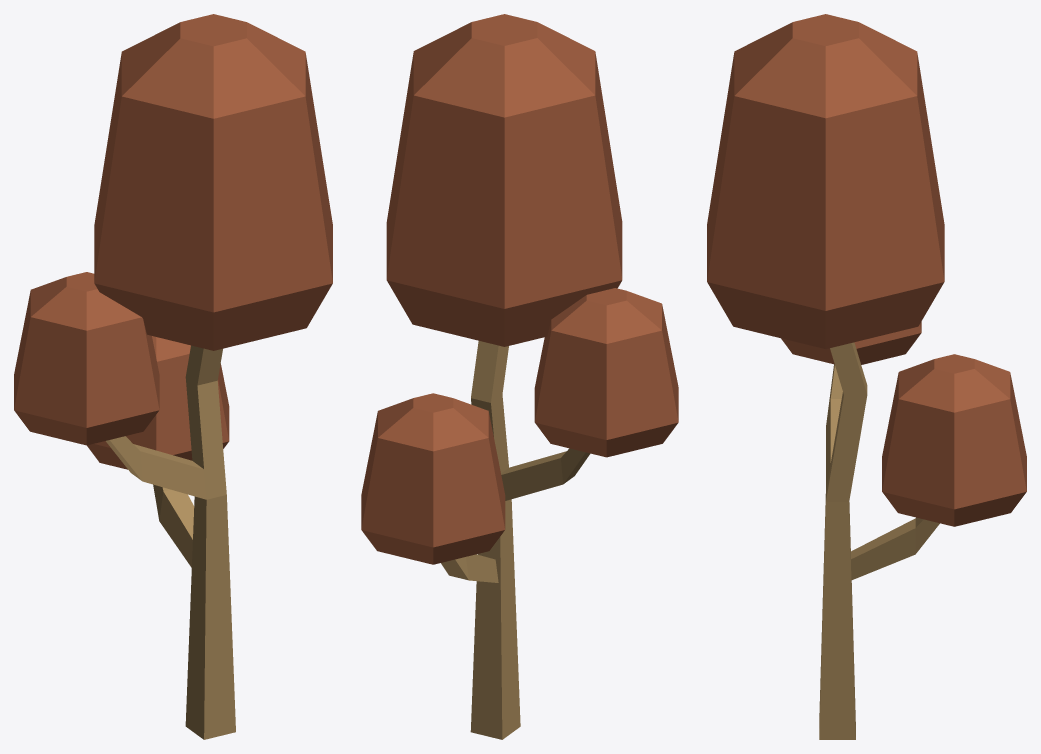
File: naturePack_066.obj
3 views of the same model, side by side, from view 1: azimuth 30°, elevation 25°; view 2: azimuth 150°, elevation 25°; view 3: azimuth 270°, elevation 25° (orthographic).
Visible parts, largest first — view 1: Mesh1_Group1_Model.049; view 2: Mesh1_Group1_Model.049; view 3: Mesh1_Group1_Model.049.
Part boxes in pixels (x1=…): Mesh1_Group1_Model.049: x1=14, y1=14, x2=332, y2=739; Mesh1_Group1_Model.049: x1=361, y1=14, x2=678, y2=739; Mesh1_Group1_Model.049: x1=707, y1=14, x2=1026, y2=739.
Bounding box in the file's own units: 2.72 × 5.96 × 2.47.
